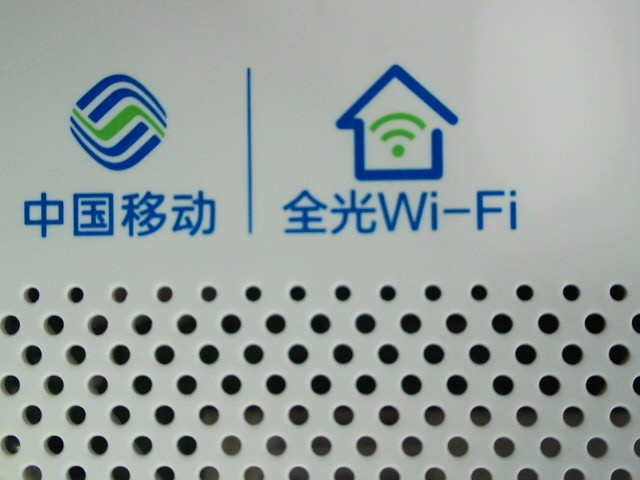BJ_QuanGuangMobile: (19, 62, 523, 249)
